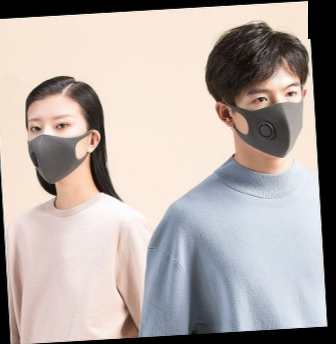with_mask: (234, 80, 305, 157), (27, 109, 88, 183)
